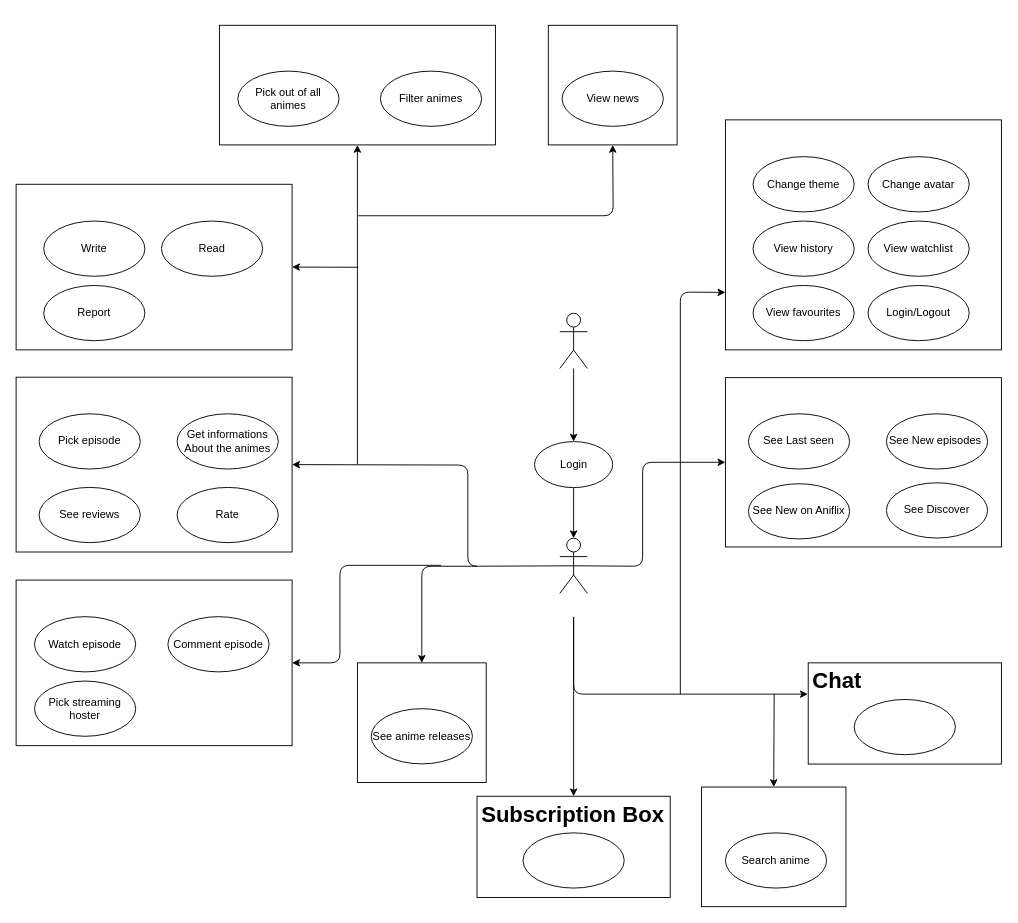
Some shapes in this 1018 by 923 pixel diagram are drawn without their labels. Here are the shapes that lost their labels. From the top down, the box of each, then its label:
(218, 24, 495, 145): Anime List
(547, 24, 677, 145): News Page
(724, 119, 1001, 350): Settings
(15, 183, 292, 350): Review
(559, 312, 587, 368): Visitor
(15, 376, 292, 552): Anime Site
(724, 377, 1001, 547): Home Page
(559, 537, 587, 593): User
(15, 579, 292, 746): Episode Site
(356, 662, 486, 782): Calendar
(853, 699, 955, 755): Chat in a global chat on the website
(522, 832, 624, 888): See subscribed animes
(701, 786, 846, 907): Search Page
